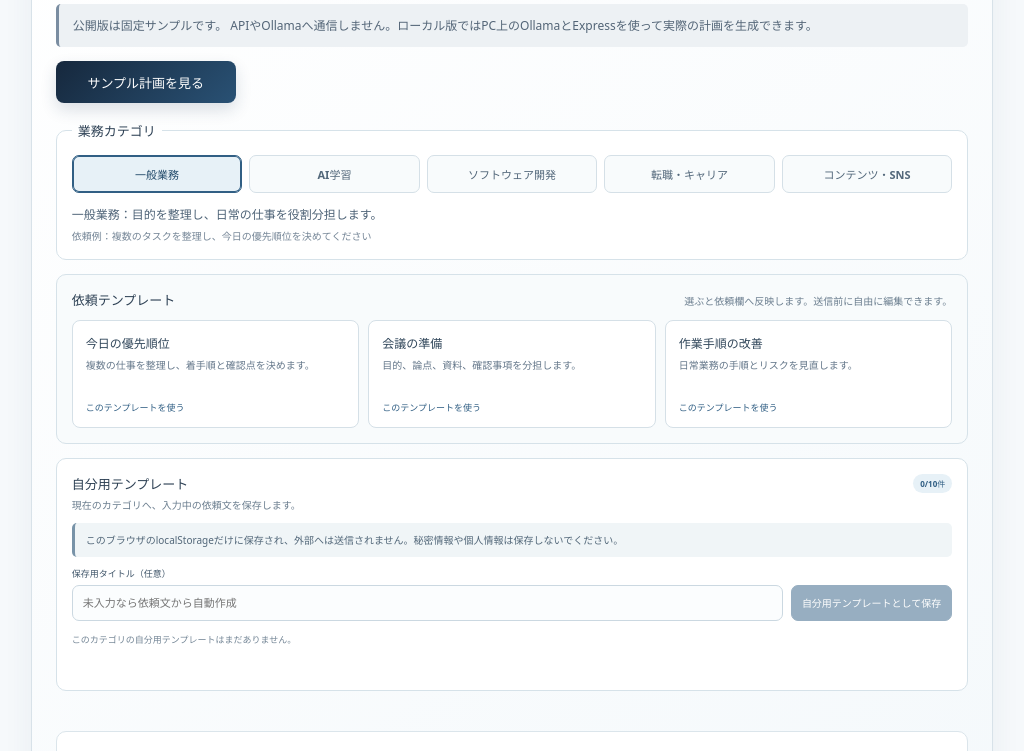
Test: TaskRequestSection › allows public-demo template editing without API communication
(page scrolled)
What coordinates should you click on to do the following:
click the button with aria-label "作業手順の改善を依頼欄へ反映"
I would click on:
 (809, 374)
Its box is [665, 320, 952, 428].
(page scrolled)
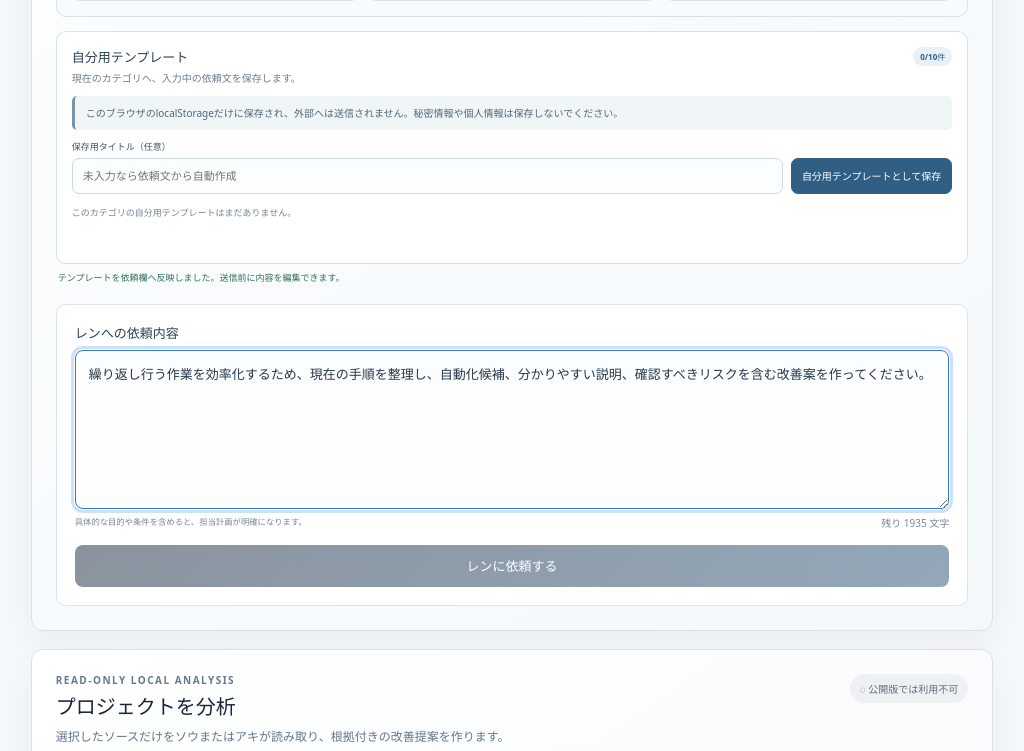
Expected: the text box labelled "レンへの依頼内容" is enabled, [75, 350, 949, 509]
Now the text box labelled "レンへの依頼内容" holds "繰り返し行う作業を効率化するため、現在の手順を整理し、自動化候補、分かりやすい説明、確認すべきリスクを含む改善案を作ってください。", box [75, 350, 949, 509]
